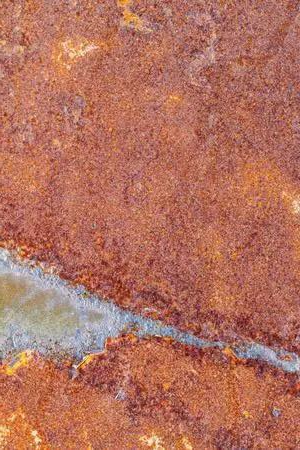Corrosion: (1, 1, 300, 364), (1, 331, 300, 450)
